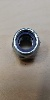Nut: (9, 25, 44, 69)
